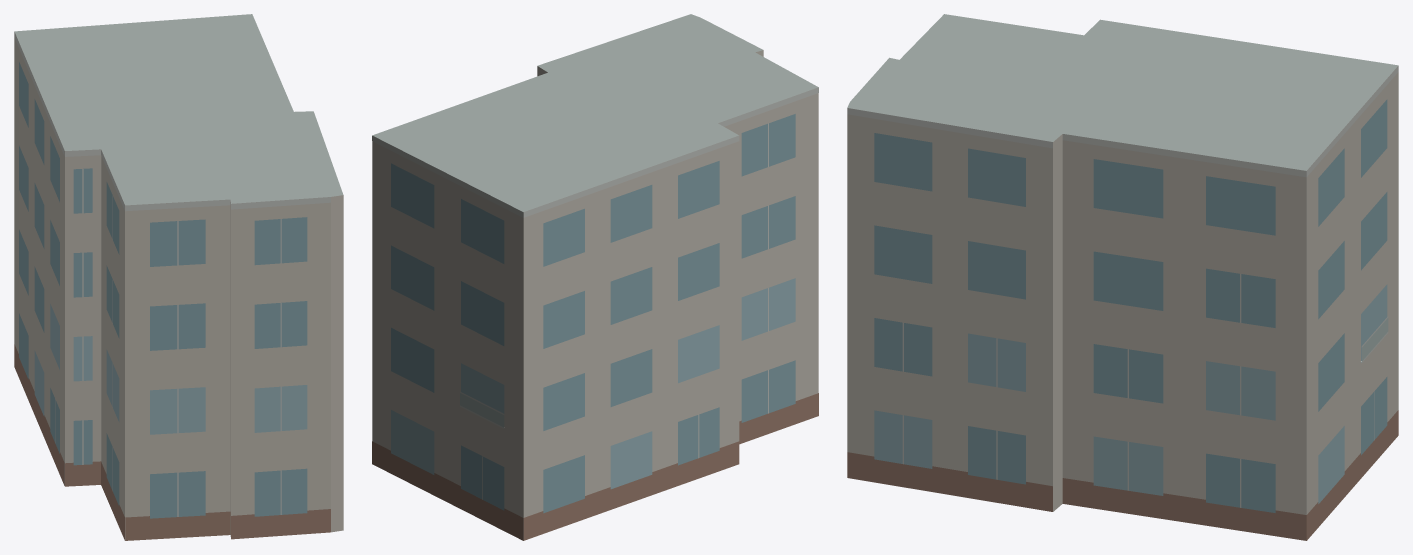
File: survey-upis-32462409.glb
3 views of the same model, side by side, from view 1: azimuth 30°, elevation 25°; view 2: azimuth 150°, elevation 25°; view 3: azimuth 270°, elevation 25° (orthographic). The views are drawn at different scales.
Visible parts, largest first — view 1: survey-upis-32462409.tmp; view 2: survey-upis-32462409.tmp; view 3: survey-upis-32462409.tmp.
Part boxes in pixels (<box>): survey-upis-32462409.tmp: <box>14,14,343,540</box>; survey-upis-32462409.tmp: <box>372,14,818,540</box>; survey-upis-32462409.tmp: <box>847,14,1398,540</box>.
Bounding box in the file's own units: 12.83 × 14.1 × 19.05.
